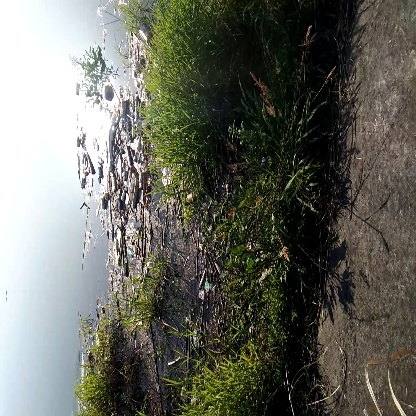grass: (155, 17, 205, 121)
